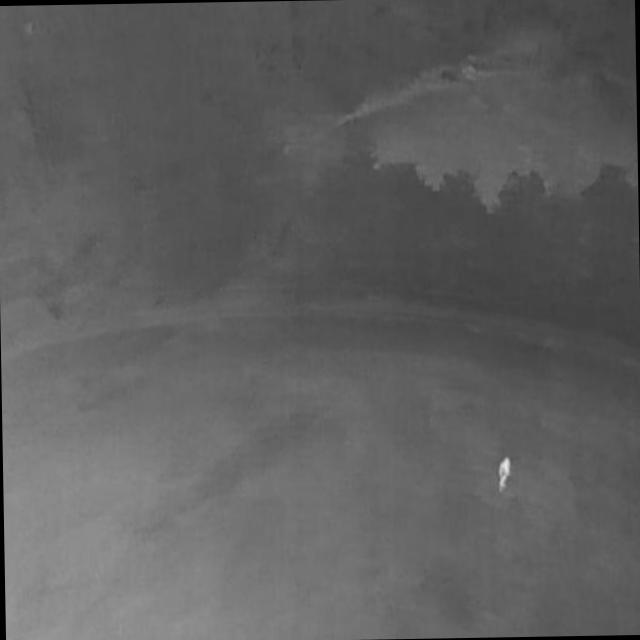person: (498, 458, 512, 492)
